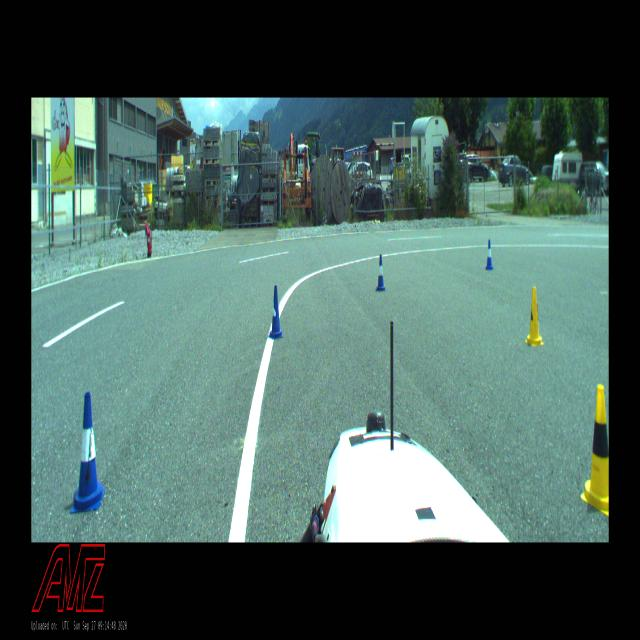blue_cone: (70, 392, 104, 514), (268, 285, 284, 339), (376, 254, 386, 290), (486, 240, 494, 270)
yellow_cone: (580, 385, 608, 517), (525, 286, 544, 346)
